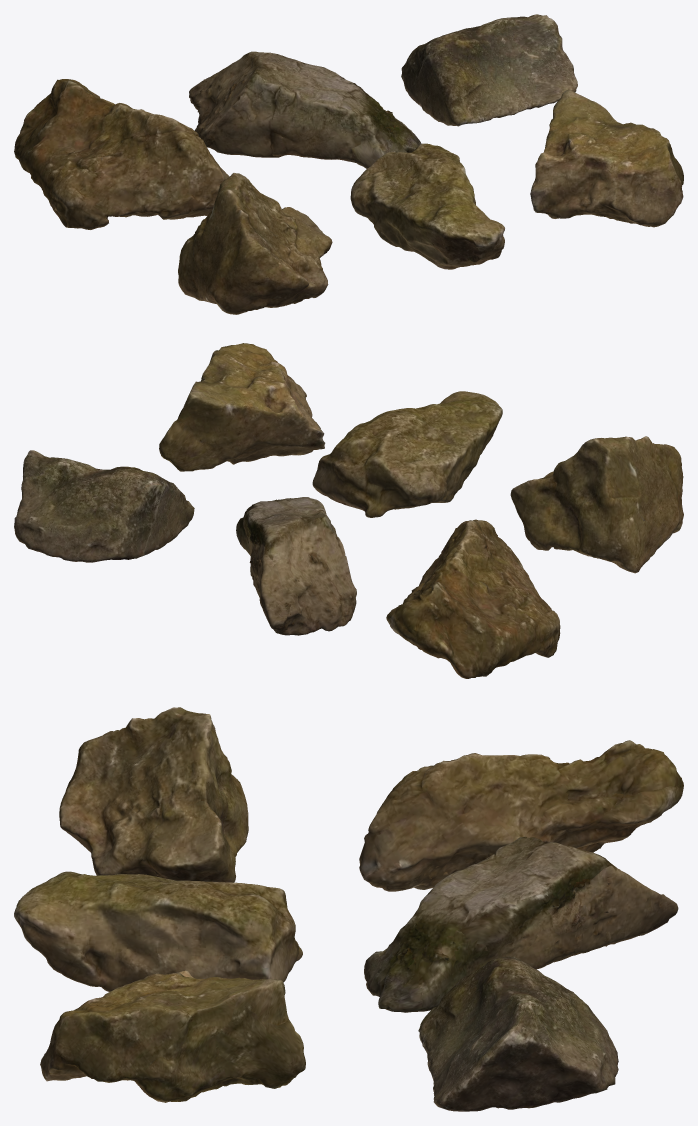
Rendered from rock_moss_set_01.glb.
3 views of the same model, one above another, from view 1: azimuth 30°, elevation 25°; view 2: azimuth 150°, elevation 25°; view 3: azimuth 270°, elevation 25° (orthographic). The views are drawn at different scales.
Visible parts, largest first — view 1: rock_moss_set_01_rock01, rock_moss_set_01_rock02, rock_moss_set_01_rock06, rock_moss_set_01_rock04, rock_moss_set_01_rock03, rock_moss_set_01_rock05; view 2: rock_moss_set_01_rock04, rock_moss_set_01_rock01, rock_moss_set_01_rock05, rock_moss_set_01_rock03, rock_moss_set_01_rock06, rock_moss_set_01_rock02; view 3: rock_moss_set_01_rock01, rock_moss_set_01_rock02, rock_moss_set_01_rock05, rock_moss_set_01_rock04, rock_moss_set_01_rock06, rock_moss_set_01_rock03.
Part boxes in pixels (x1=…): rock_moss_set_01_rock01: x1=14, y1=79, x2=229, y2=229; rock_moss_set_01_rock02: x1=189, y1=51, x2=421, y2=168; rock_moss_set_01_rock06: x1=530, y1=89, x2=683, y2=227; rock_moss_set_01_rock04: x1=178, y1=173, x2=332, y2=314; rock_moss_set_01_rock03: x1=401, y1=14, x2=577, y2=126; rock_moss_set_01_rock05: x1=350, y1=143, x2=504, y2=269; rock_moss_set_01_rock04: x1=510, y1=436, x2=683, y2=573; rock_moss_set_01_rock01: x1=386, y1=519, x2=560, y2=678; rock_moss_set_01_rock05: x1=312, y1=391, x2=502, y2=517; rock_moss_set_01_rock03: x1=14, y1=450, x2=194, y2=562; rock_moss_set_01_rock06: x1=159, y1=343, x2=325, y2=471; rock_moss_set_01_rock02: x1=236, y1=497, x2=356, y2=635; rock_moss_set_01_rock01: x1=359, y1=740, x2=683, y2=891; rock_moss_set_01_rock02: x1=364, y1=836, x2=678, y2=1012; rock_moss_set_01_rock05: x1=14, y1=871, x2=302, y2=991; rock_moss_set_01_rock04: x1=59, y1=707, x2=248, y2=882; rock_moss_set_01_rock06: x1=40, y1=970, x2=305, y2=1102; rock_moss_set_01_rock03: x1=418, y1=956, x2=618, y2=1111.
Size of the model in its own units: 8 by 1.77 by 6.95.
1 material, 1 textured.
